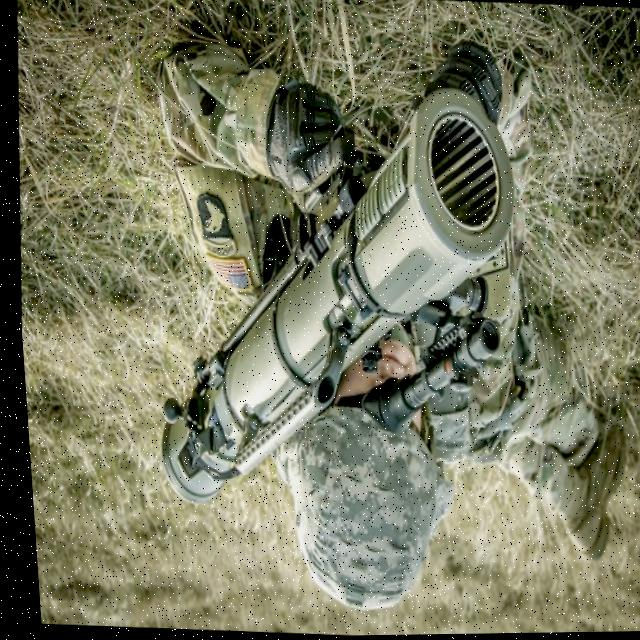rocket: (130, 80, 531, 524)
